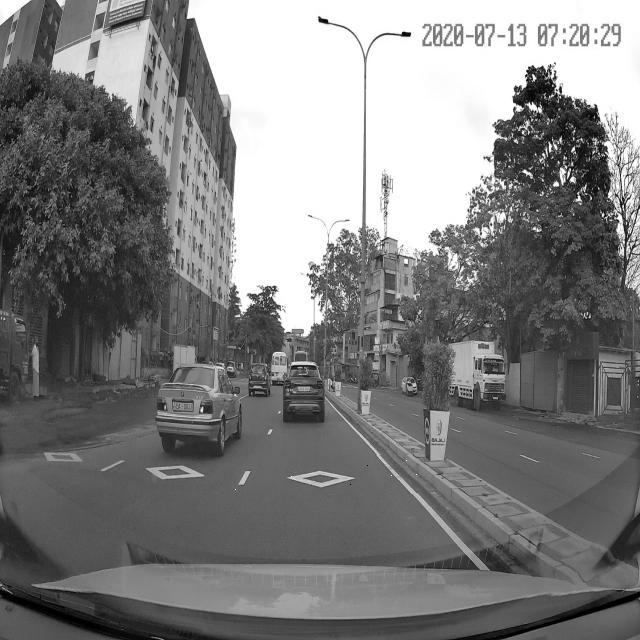diamond: (226, 455, 417, 494)
